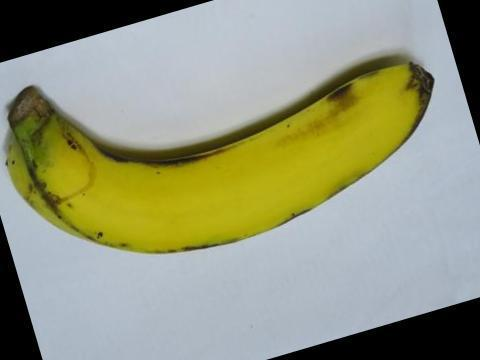freshripe: (0, 41, 446, 266)
